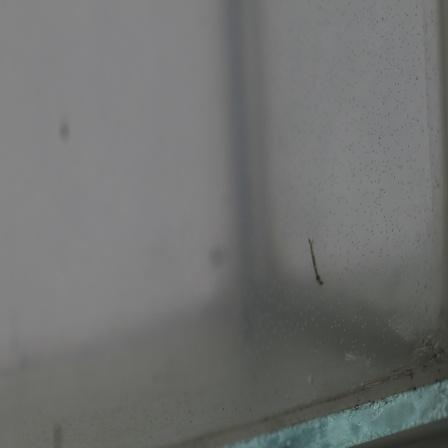Jentik-Nyamuk: (306, 236, 328, 289)
